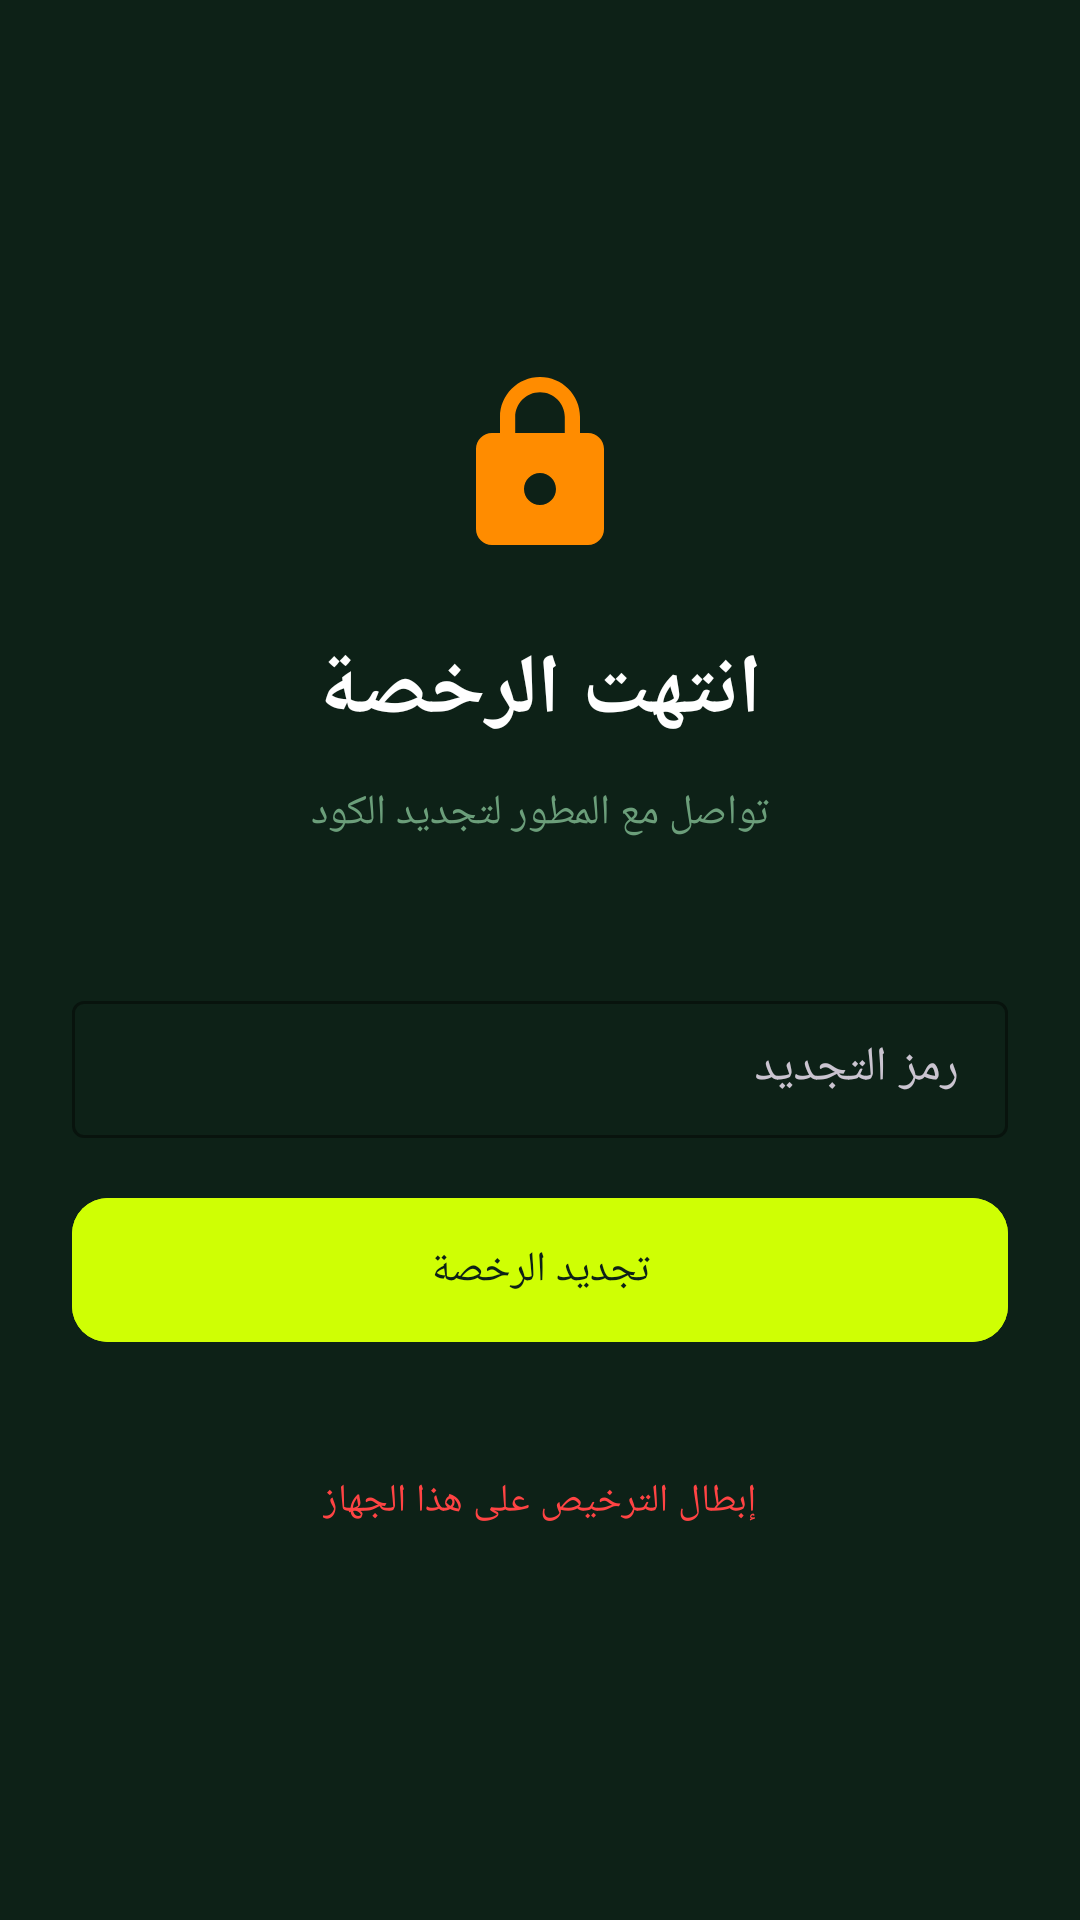

Screen size 1080px x 1920px. Icon name, then its center in pixels as [x,y]:
الرخصة منتهية: [540,461]
